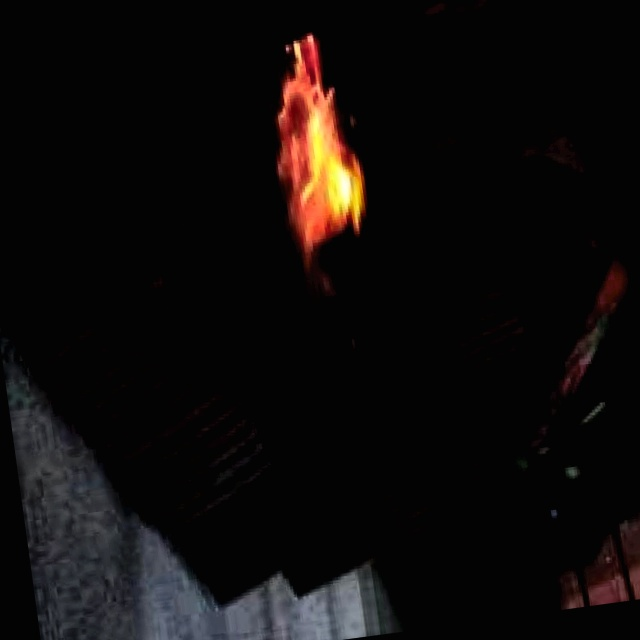fire: (199, 9, 389, 279)
